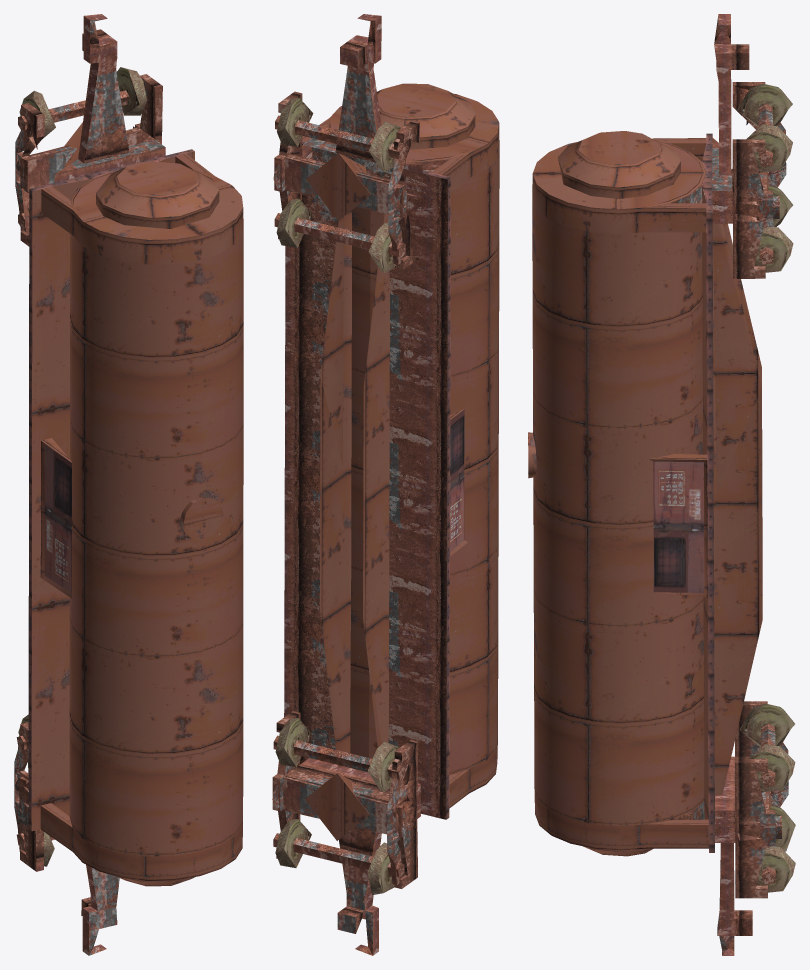
The model's file is train_liquid_LOD1.obj.
The picture shows the model from 3 angles, left to right: view 1: azimuth 30°, elevation 25°; view 2: azimuth 150°, elevation 25°; view 3: azimuth 270°, elevation 25°; orthographic projection.
Visible parts, largest first — view 1: MSH_Axis_4; view 2: MSH_Axis_4; view 3: MSH_Axis_4.
Boxes of the visible parts, x1=… form: MSH_Axis_4: x1=14, y1=14, x2=243, y2=955; MSH_Axis_4: x1=272, y1=14, x2=499, y2=955; MSH_Axis_4: x1=528, y1=14, x2=795, y2=955.
Size of the model in its own units: 93.77 by 514 by 133.
Materials: 5 (5 with a texture image).
